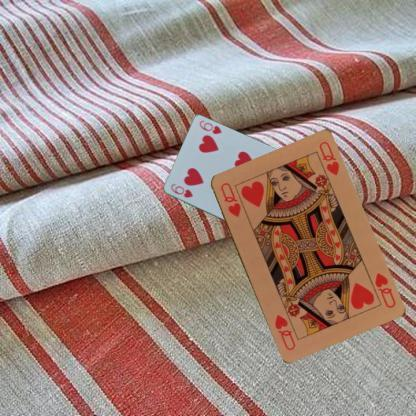6h: (168, 182, 194, 199)
Qh: (372, 270, 396, 310), (217, 180, 242, 218)
